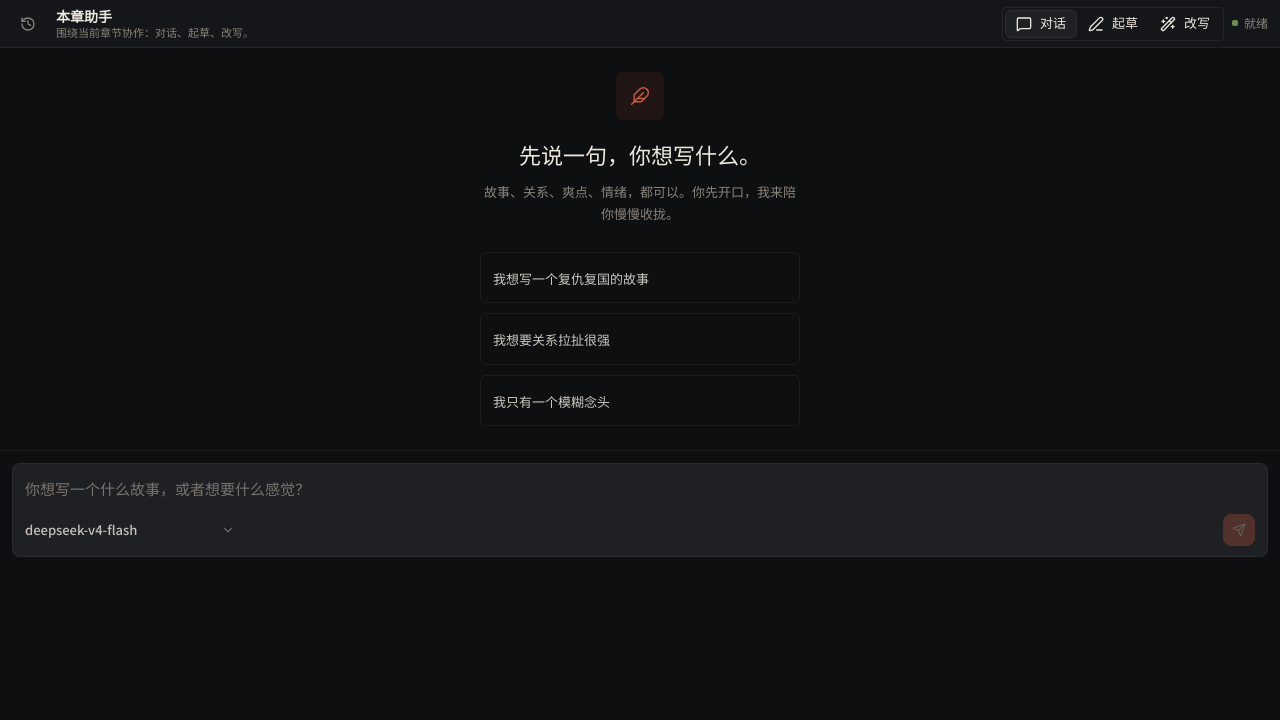
Test case: AIChatPanel › shows a rewrite placeholder inside the assistant container
Click the button "改写" at point(1185, 24), box [1149,10,1221,38]
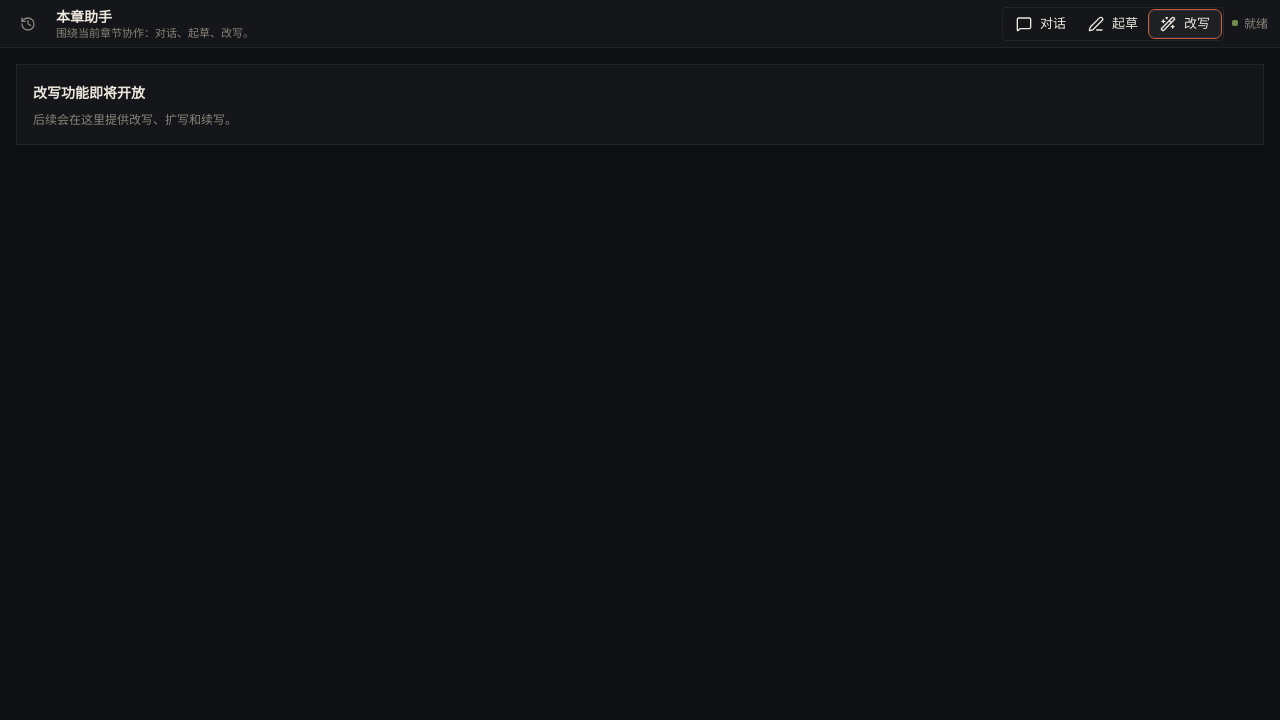
Result: the text "改写功能即将开放" is shown at [33,82,145,102]
Result: the text "后续会在这里提供改写、扩写和续写。" is shown at [33,110,237,127]
